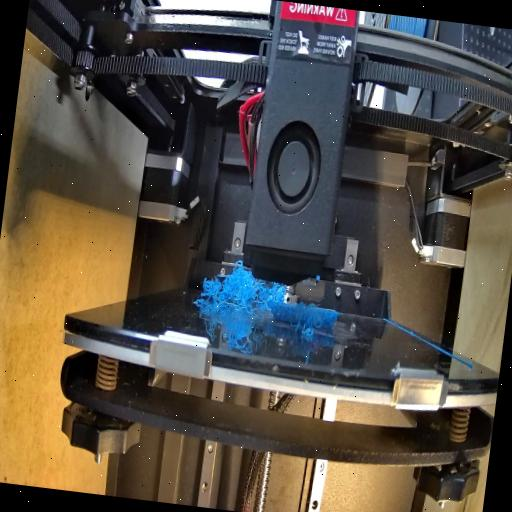spaghetti: (196, 262, 286, 318), (286, 298, 326, 340)
